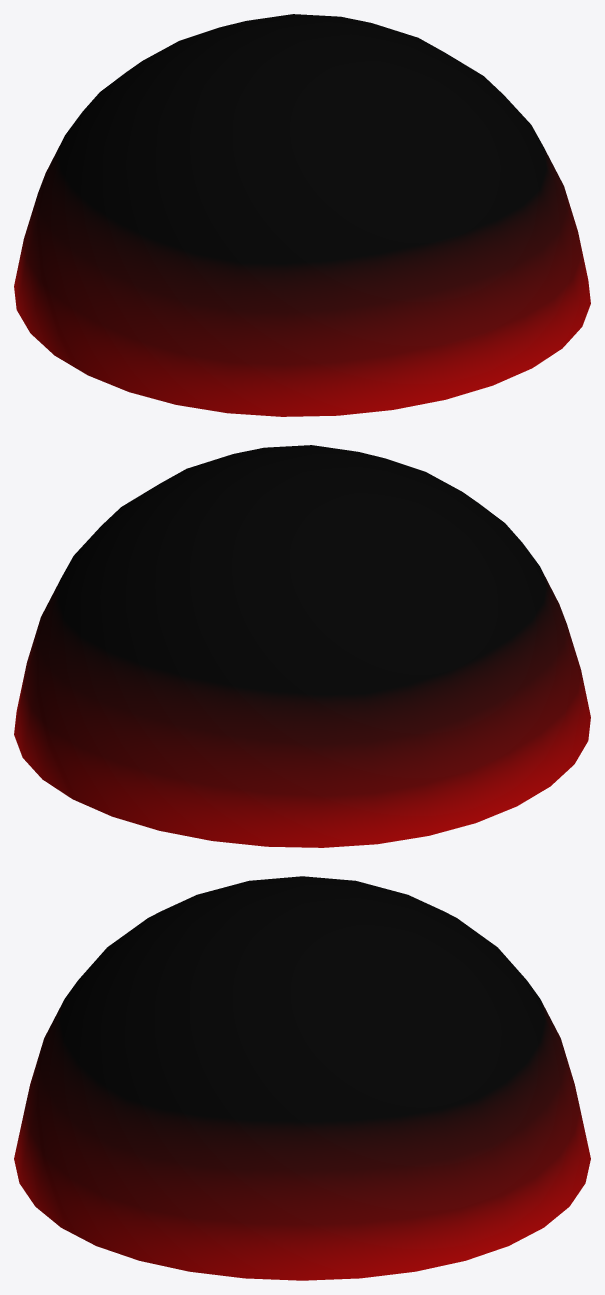
Rendered from SM_Sky_01.fbx.
3 views of the same model, one above another, from view 1: azimuth 30°, elevation 25°; view 2: azimuth 150°, elevation 25°; view 3: azimuth 270°, elevation 25° (orthographic).
Visible parts, largest first — view 1: Cube; view 2: Cube; view 3: Cube.
Part boxes in pixels (box(x1,y1,x2,y2)): Cube: box(14, 14, 590, 416); Cube: box(14, 445, 590, 847); Cube: box(14, 876, 590, 1280).
Bounding box in the file's own units: 165 × 80.68 × 165.
